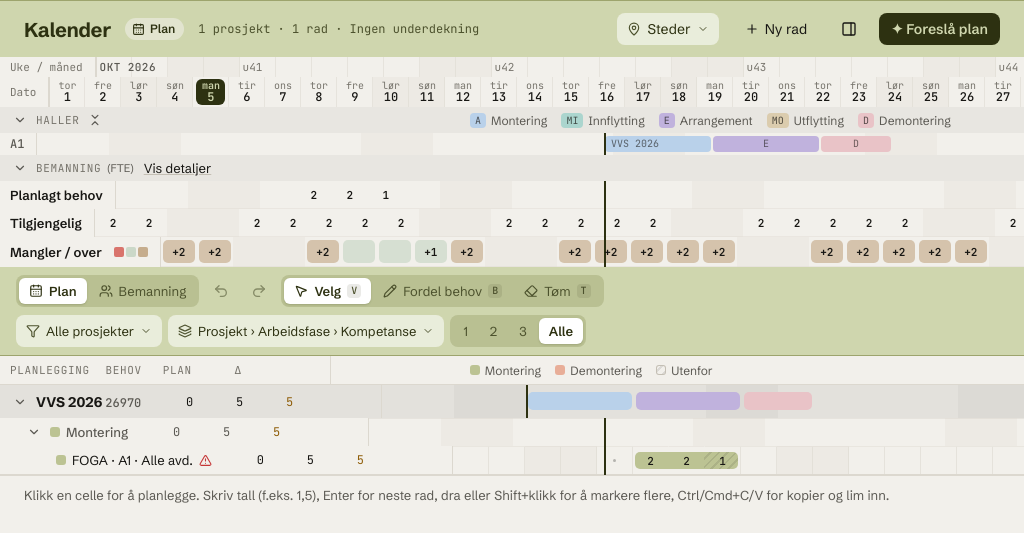
Test: the planning grid › erases what an Alt-drag is drawn across, and gives back what was selected
Press the mouse on the 12th element with class "editable" at (867, 460), box [849,446,885,474]
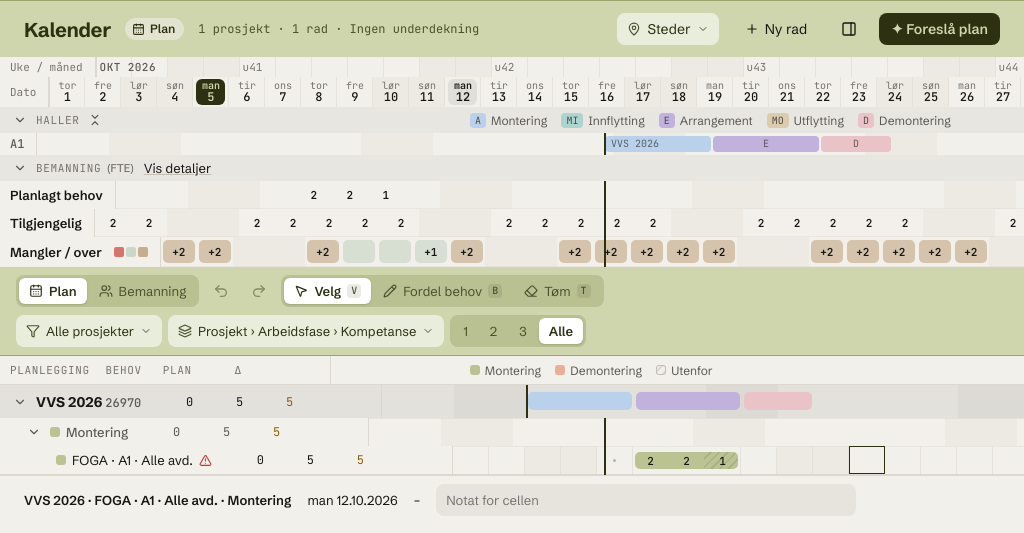
Press the mouse on the 7th text with class "editable" at (687, 460), box [669,446,705,474]
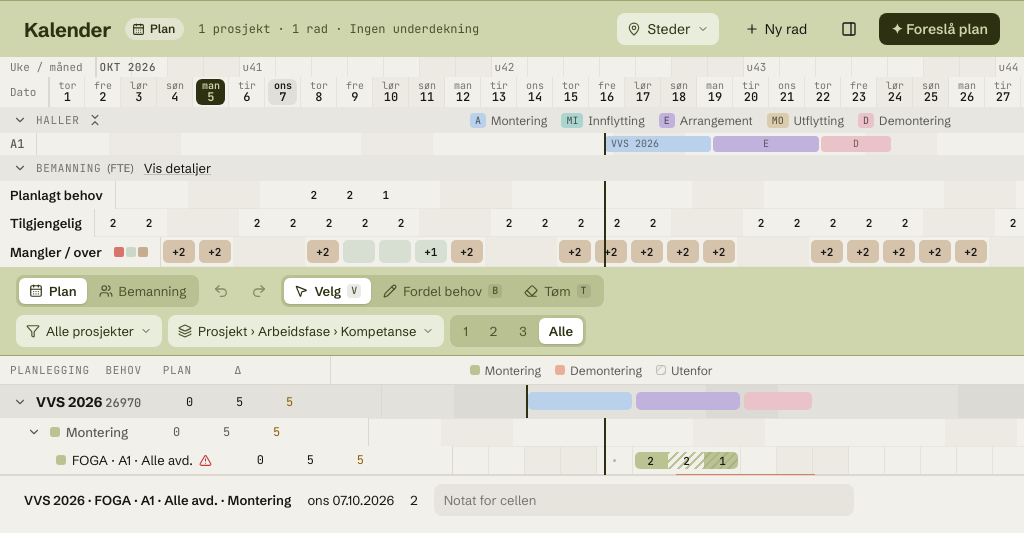
Hover over the 8th text with class "editable".
mouse_move(723, 460)  # box [705,446,741,474]
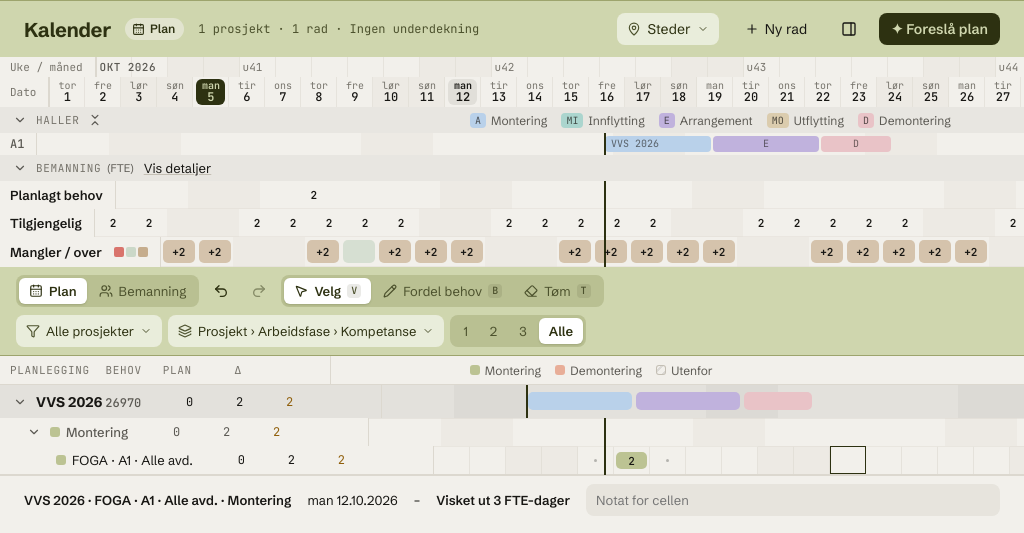
expect the element with class "statusbar" shows "Visket ut 3 FTE-dager": met, box [436,492,570,508]
